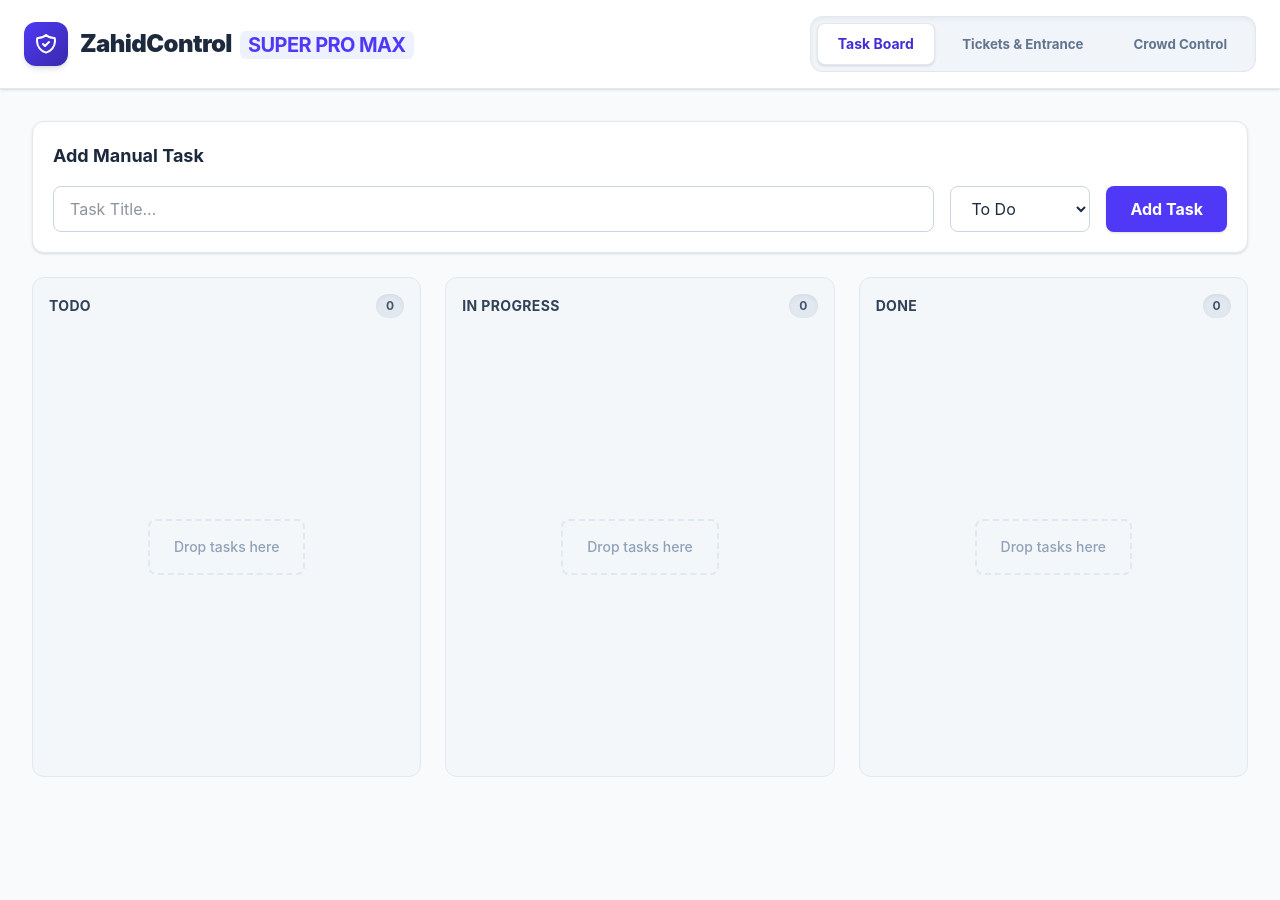
App Component › allows switching between tabs
Step 1. Click the button "Tickets & Entrance" → (1023, 44), box [943,24,1102,64]
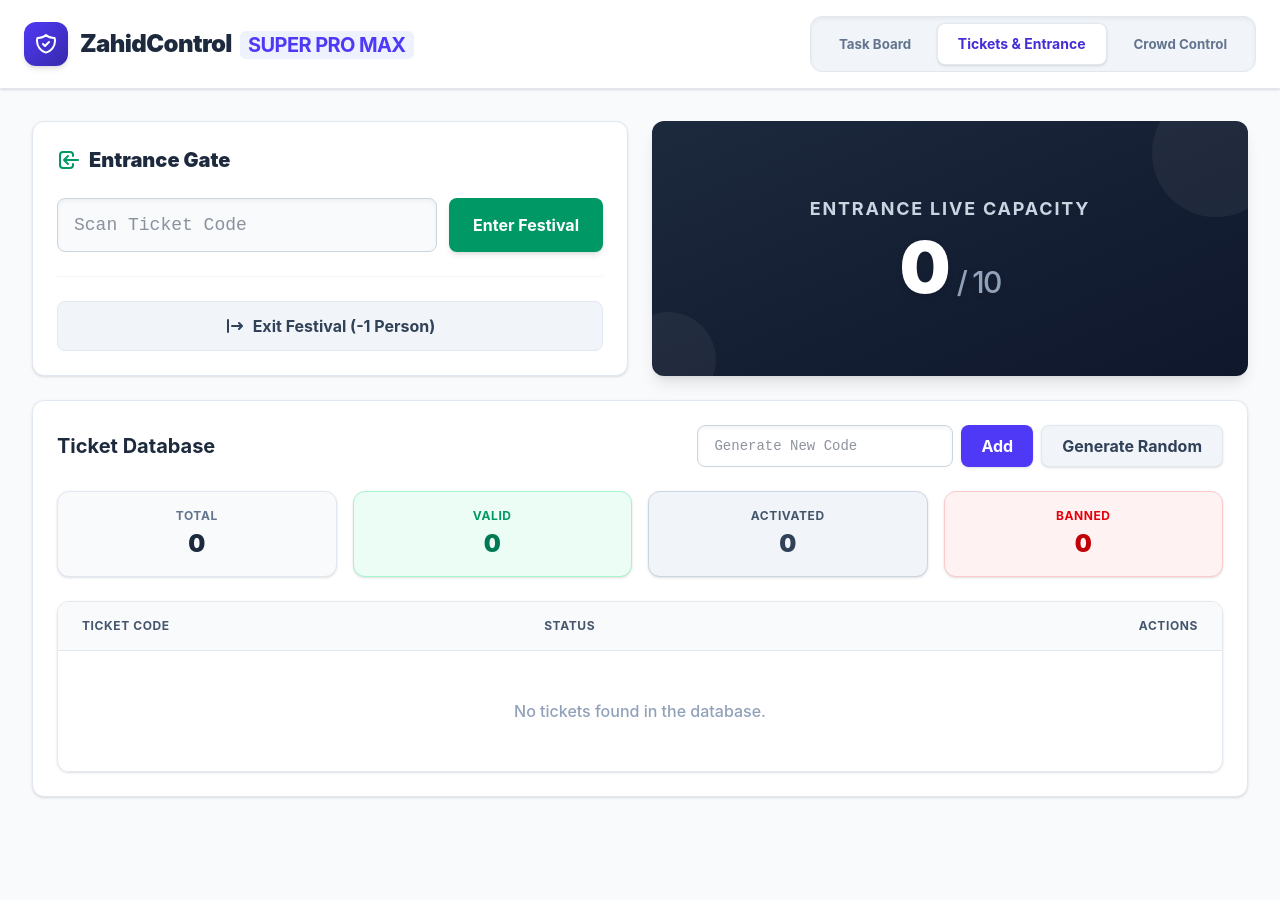
Check: the heading "Entrance Gate" is shown, box [57,148,230,172]
Step 2. Click the button "Crowd Control" → (1180, 44), box [1114,24,1246,64]
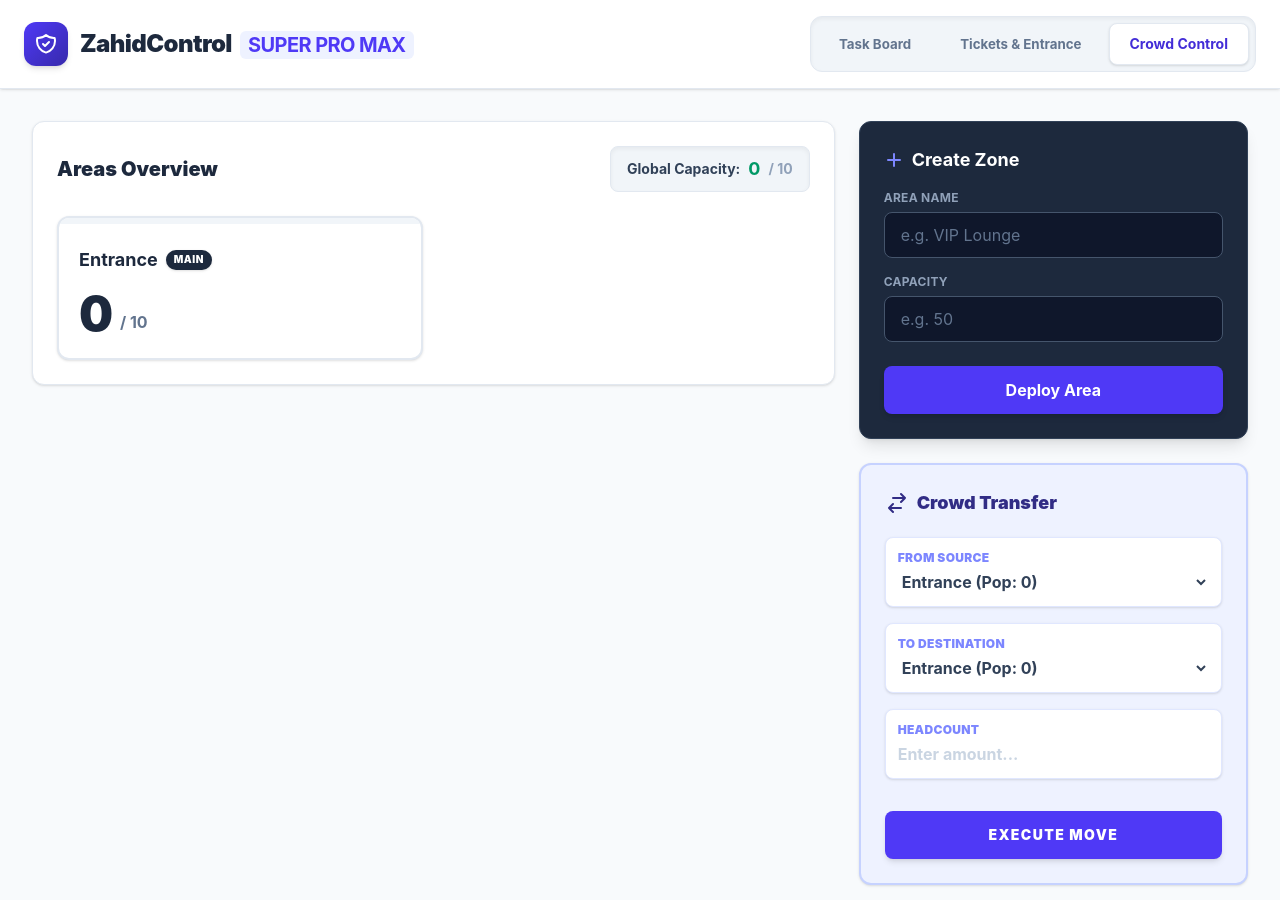
Check: the heading "Areas Overview" is shown, box [57,155,218,183]
Step 3. Click the button "Task Board" → (875, 44), box [820,24,930,64]
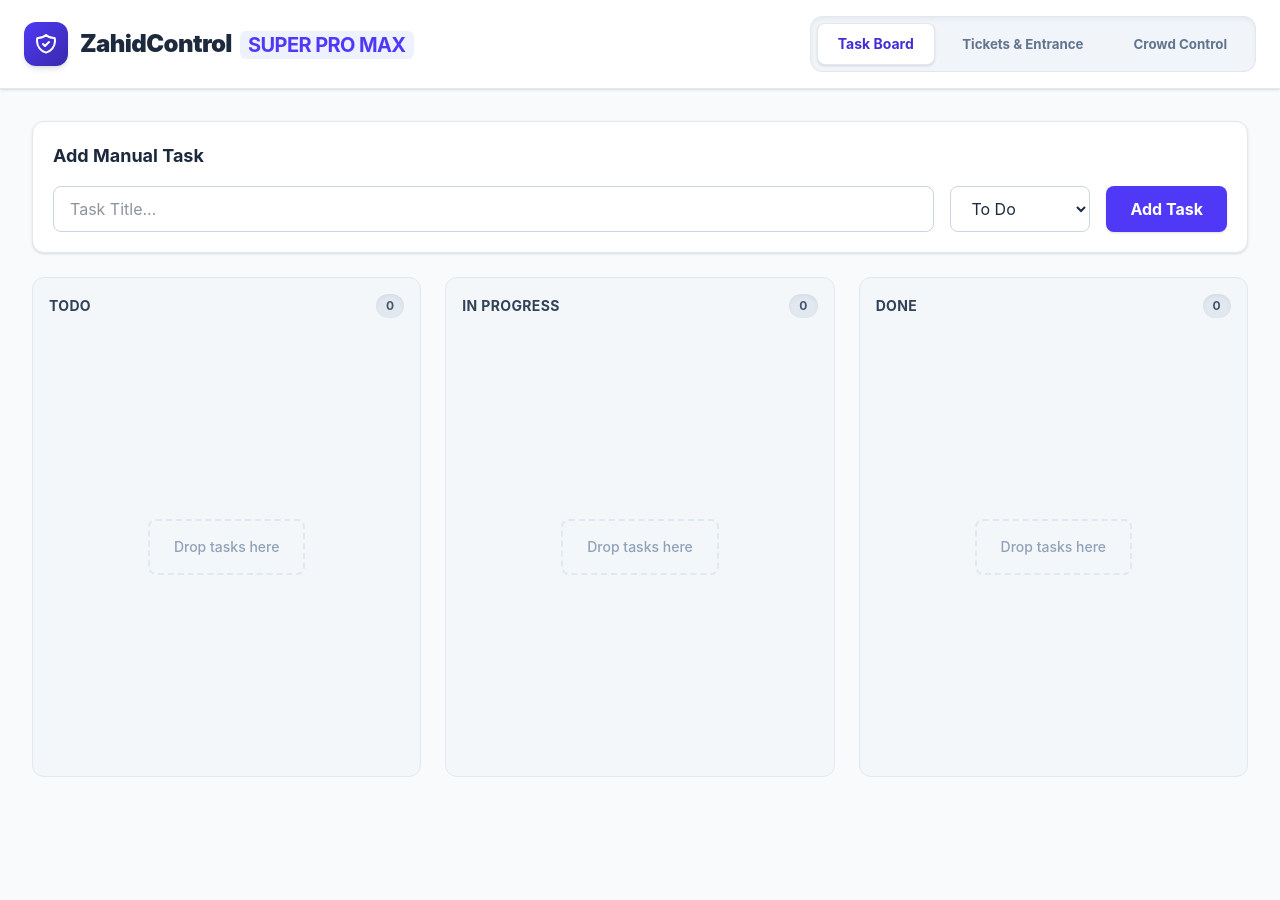
Check: the heading "Add Manual Task" is shown, box [53,145,204,166]
